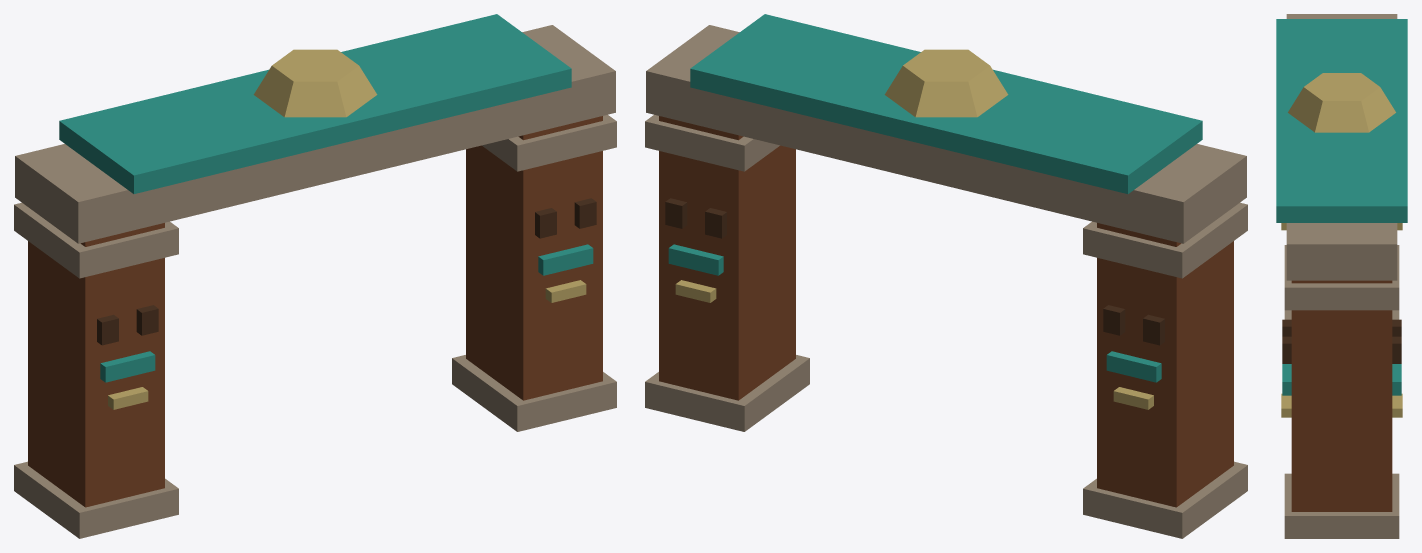
File: Tropical_TikiGate_Standard.glb
3 views of the same model, side by side, from view 1: azimuth 30°, elevation 25°; view 2: azimuth 150°, elevation 25°; view 3: azimuth 270°, elevation 25° (orthographic). The views are drawn at different scales.
Visible parts, largest first — view 1: Tropical_TikiGate_Standard; view 2: Tropical_TikiGate_Standard; view 3: Tropical_TikiGate_Standard.
Part boxes in pixels (x1,y1,x2,y2): Tropical_TikiGate_Standard: (14, 14, 616, 538); Tropical_TikiGate_Standard: (645, 14, 1247, 538); Tropical_TikiGate_Standard: (1276, 14, 1407, 538).
Bounding box in the file's own units: 5.4 × 3.71 × 1.3.
